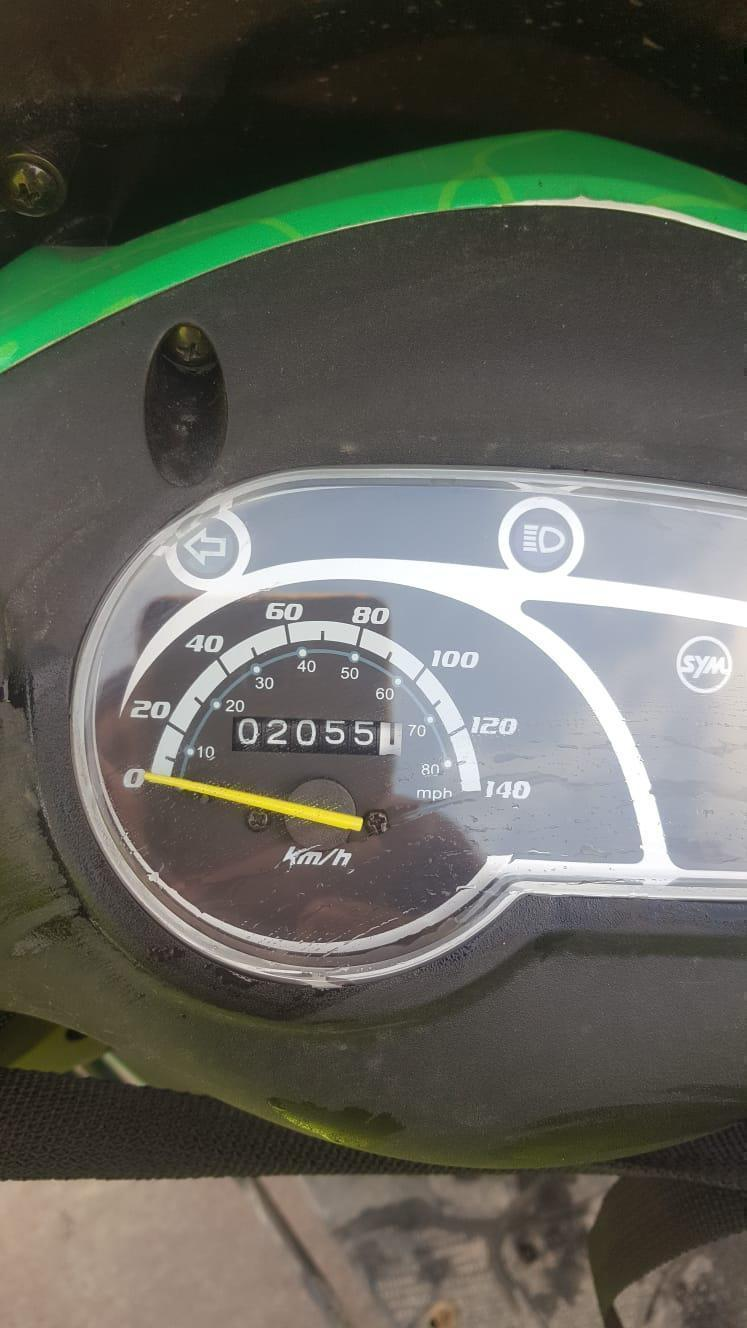0: (295, 717, 316, 750), (237, 716, 258, 747)
1: (384, 718, 400, 749)
2: (263, 717, 290, 750)
5: (323, 717, 346, 750), (352, 718, 376, 749)
odometer: (230, 713, 409, 760)
